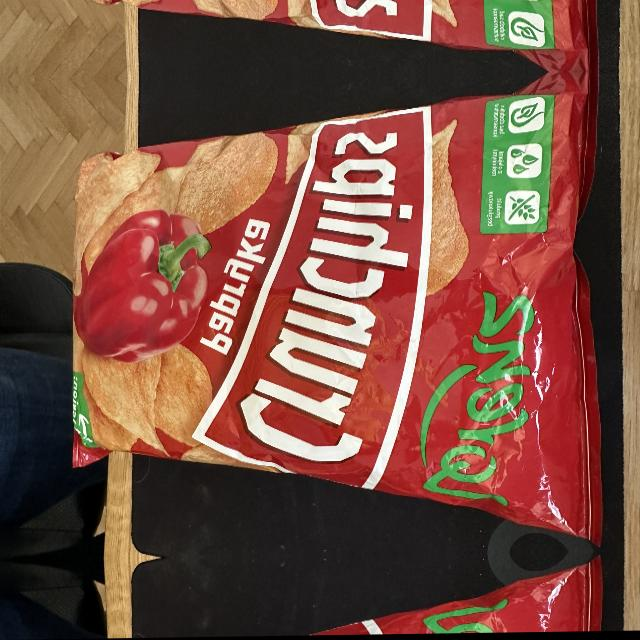crunchips: (193, 108, 434, 491)
